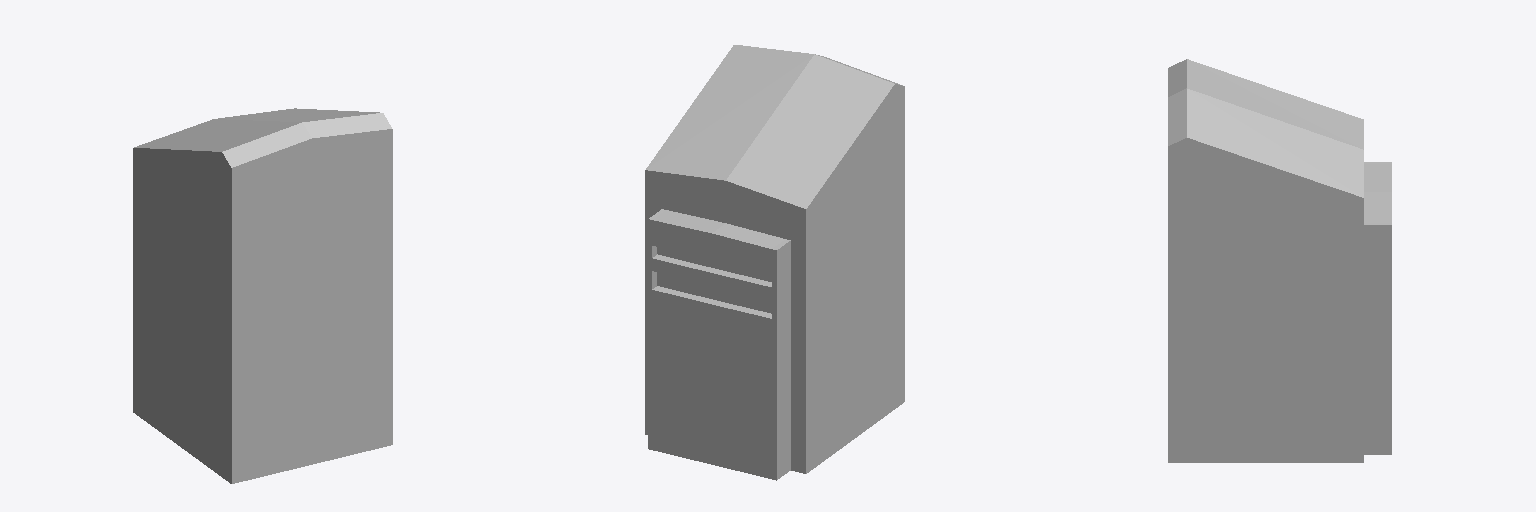
Rendered from Building 1_1.obj.
3 renders of one model, left to right at view 1: azimuth 30°, elevation 25°; view 2: azimuth 150°, elevation 25°; view 3: azimuth 270°, elevation 25°, orthographic.
Parts seen in each view (by area): view 1: Building; view 2: Building; view 3: Building.
Part boxes in pixels (left/top/right/bottom): Building: left=133, top=108, right=392, bottom=483; Building: left=645, top=45, right=904, bottom=480; Building: left=1168, top=59, right=1391, bottom=462.
Bounding box in the file's own units: 16.5 × 32.83 × 19.89.